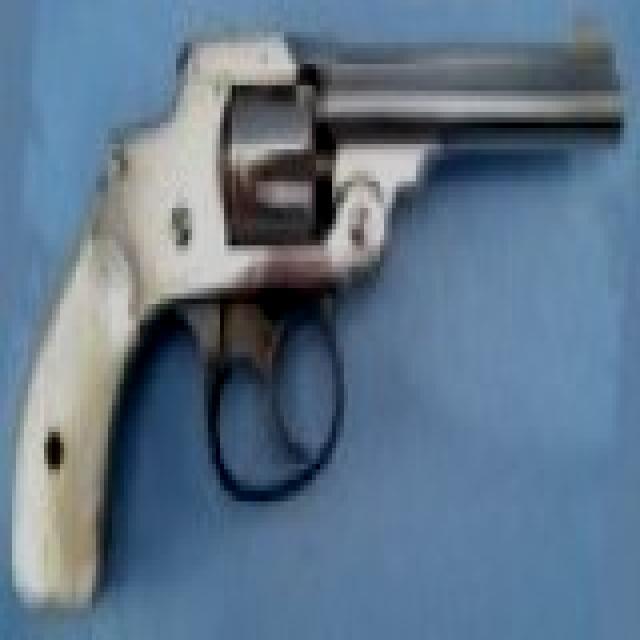pistol: (24, 16, 620, 608)
